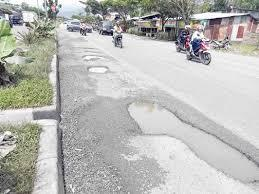Pothole: (125, 95, 259, 187), (79, 42, 115, 85)
